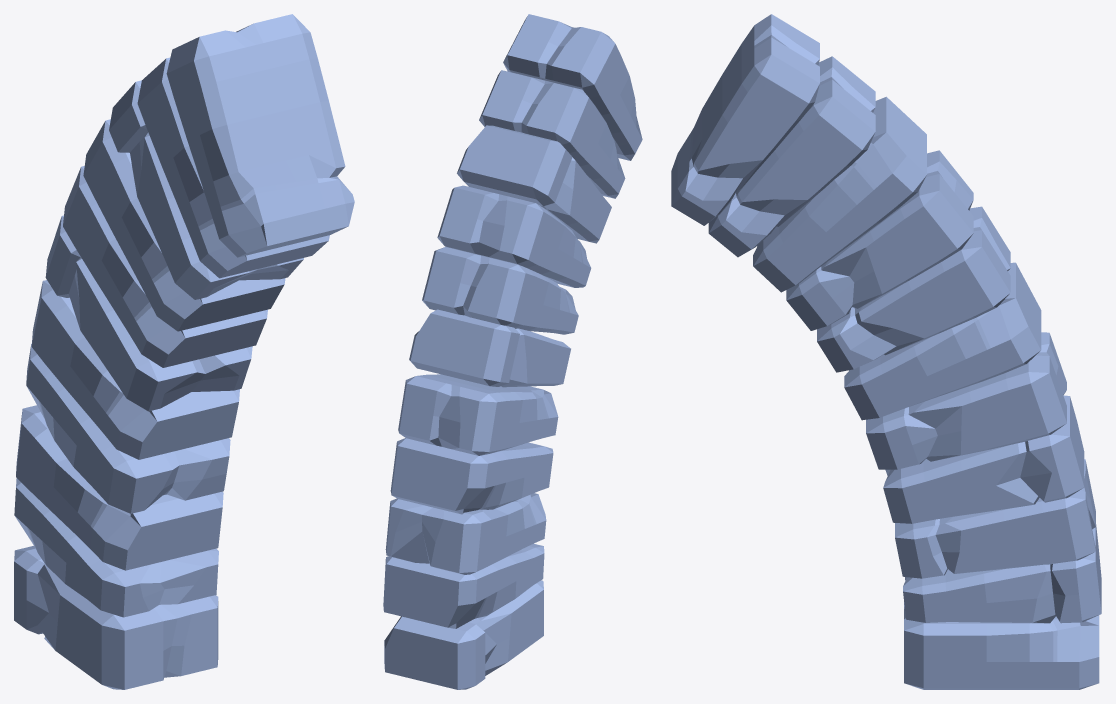
File: Vampire_Assets_HalfArc_Solo.fbx
3 renders of one model, left to right at view 1: azimuth 30°, elevation 25°; view 2: azimuth 150°, elevation 25°; view 3: azimuth 270°, elevation 25°, orthographic. The views are drawn at different scales.
Visible parts, largest first — view 1: Cube.001; view 2: Cube.001; view 3: Cube.001.
Part boxes in pixels (box(x1,y1,x2,y2)): Cube.001: box(14, 14, 354, 689); Cube.001: box(383, 14, 642, 689); Cube.001: box(671, 14, 1101, 689).
Size of the model in its own units: 218 by 1263 by 775.
